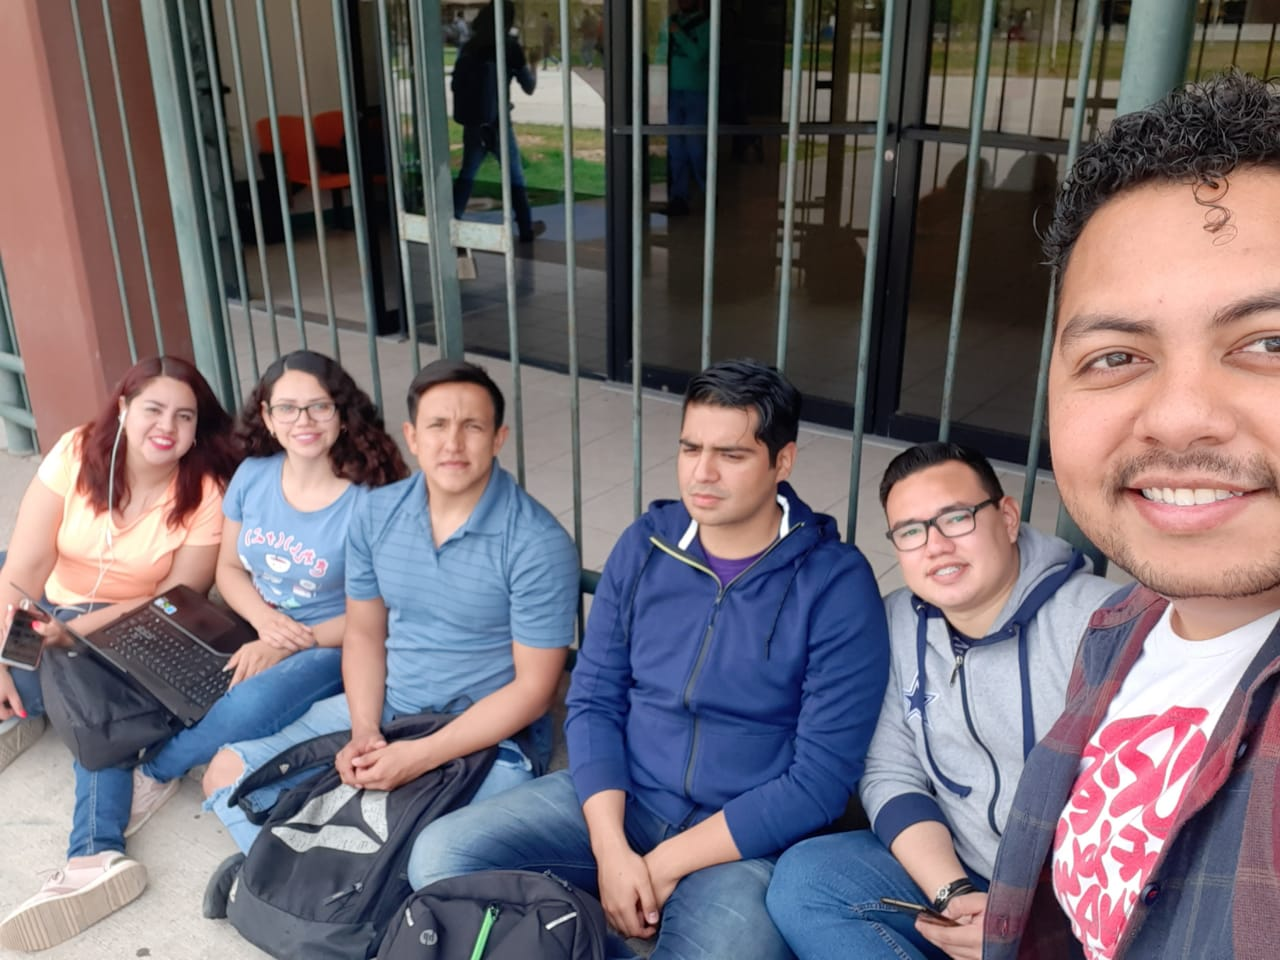Yoshi: (997, 55, 1275, 638)
